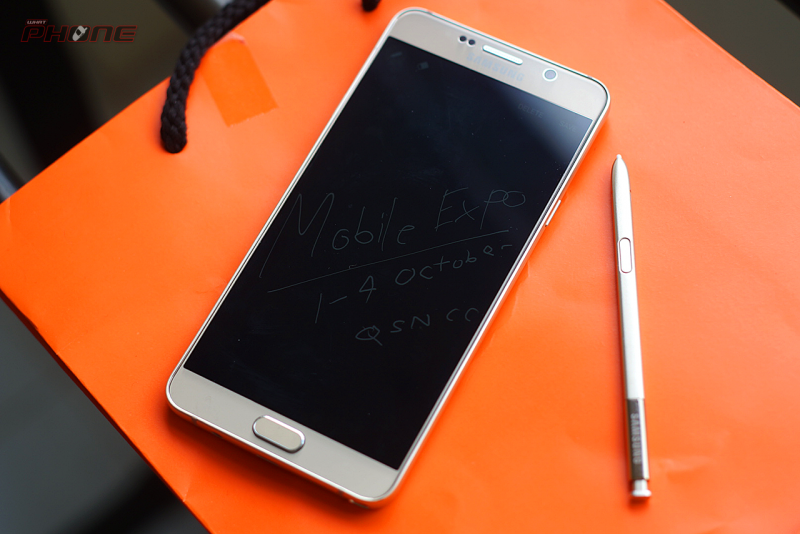Phone: (164, 6, 612, 513)
